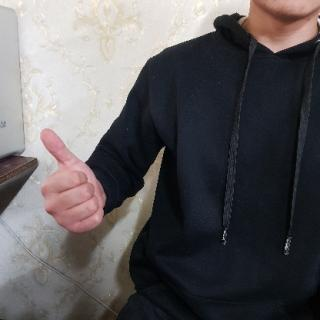ALIF: (36, 126, 118, 239)
